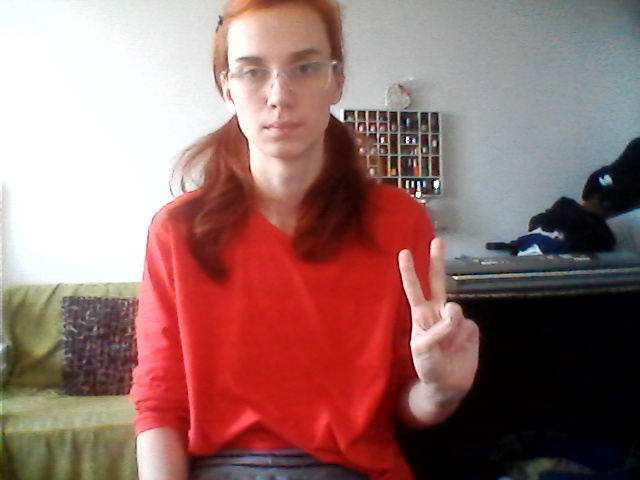v: (379, 229, 501, 393)
